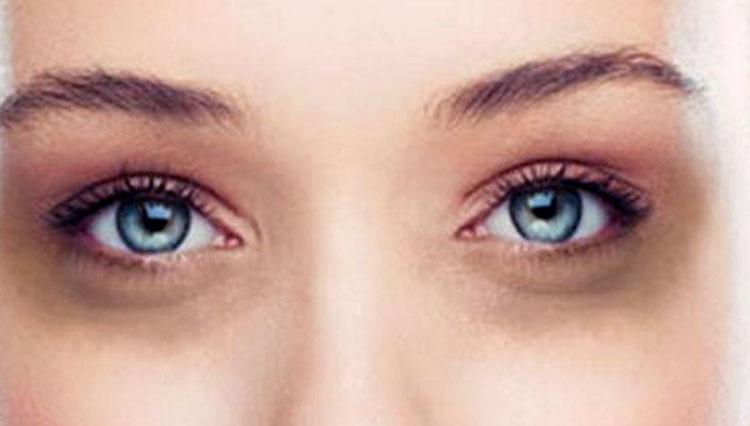Eyebags: (434, 144, 721, 344), (13, 157, 273, 348)
